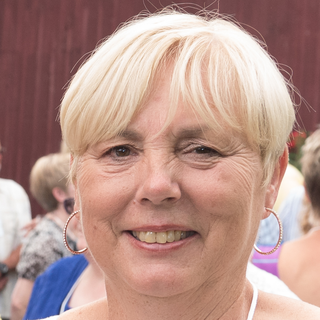eye: (177, 140, 229, 164), (97, 140, 144, 164)
